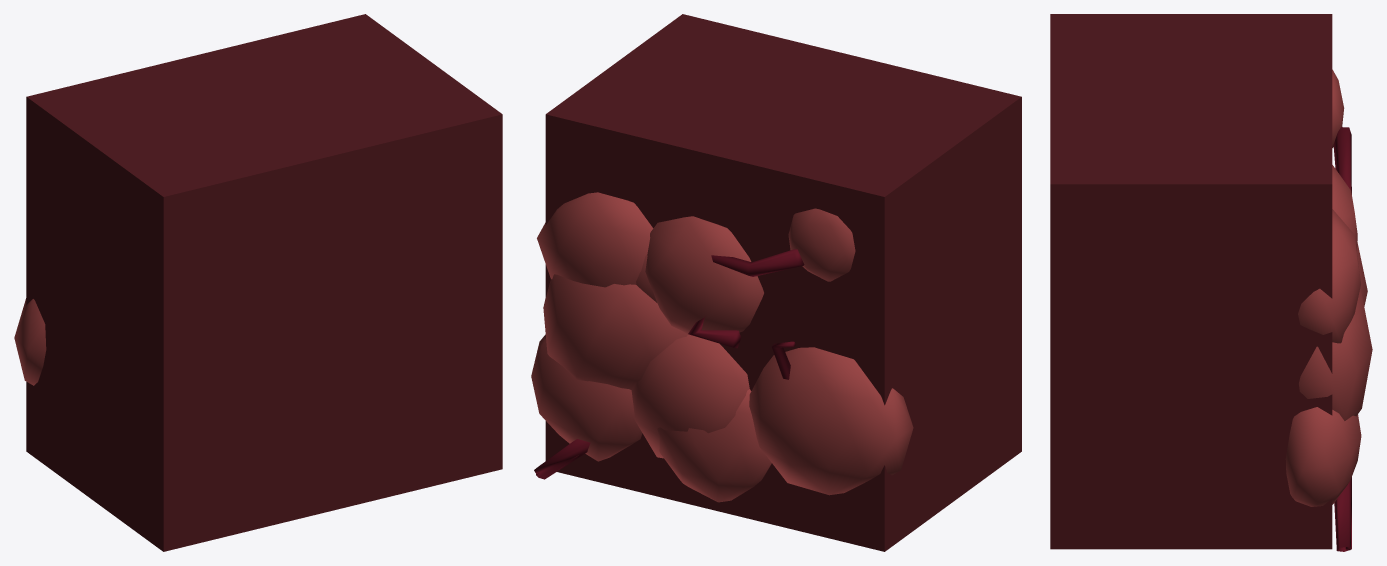
File: wall_of_flesh_flesh.glb
3 views of the same model, side by side, from view 1: azimuth 30°, elevation 25°; view 2: azimuth 150°, elevation 25°; view 3: azimuth 270°, elevation 25° (orthographic). The views are drawn at different scales.
Parts seen in each view (by area): view 1: maw_flesh; view 2: maw_flesh; view 3: maw_flesh.
Part boxes in pixels (x1,y1,x2,y2): maw_flesh: (14,14,502,551); maw_flesh: (531,14,1021,551); maw_flesh: (1050,14,1372,551).
Size of the model in its own units: 4.45 by 4.06 by 3.2.
